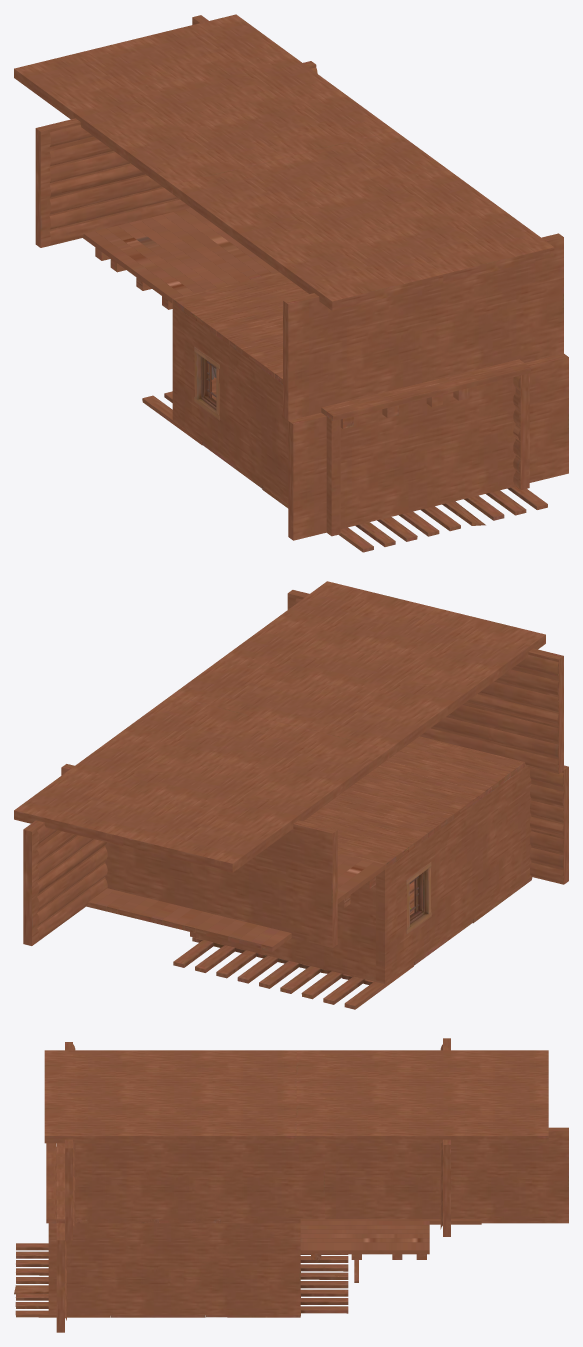
Rendered from library-transformed.glb.
3 renders of one model, top to bottom at view 1: azimuth 30°, elevation 25°; view 2: azimuth 150°, elevation 25°; view 3: azimuth 270°, elevation 25°, orthographic. The views are drawn at different scales.
Parts seen in each view (by area): view 1: defaultMaterial; view 2: defaultMaterial; view 3: defaultMaterial.
Boxes of the visible parts, x1=… form: defaultMaterial: x1=14, y1=14, x2=568, y2=552; defaultMaterial: x1=14, y1=581, x2=568, y2=1009; defaultMaterial: x1=14, y1=1038, x2=568, y2=1332.
Bounding box in the file's own units: 720 × 521 × 1365.
2 materials, 1 textured.
